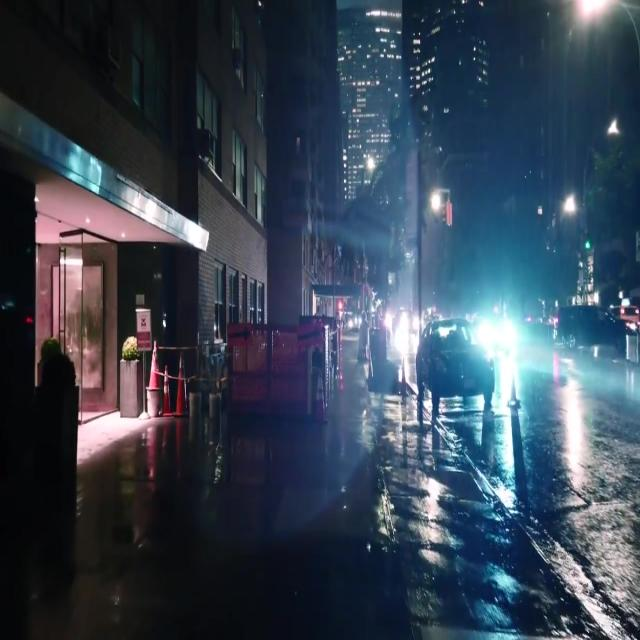Car: (416, 319, 493, 415), (554, 305, 625, 354)
